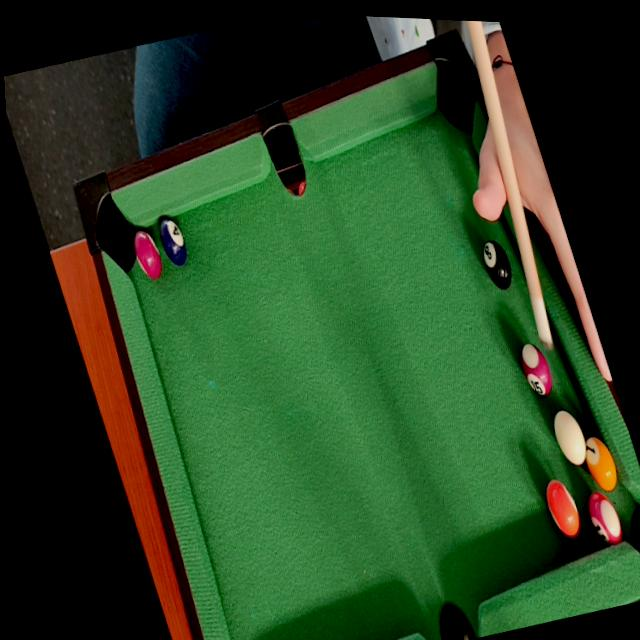cue ball: (543, 397, 593, 474)
other: (579, 480, 634, 563), (535, 468, 590, 549), (571, 420, 626, 501), (512, 332, 564, 406), (471, 228, 521, 299), (148, 200, 196, 268), (124, 220, 167, 283)
